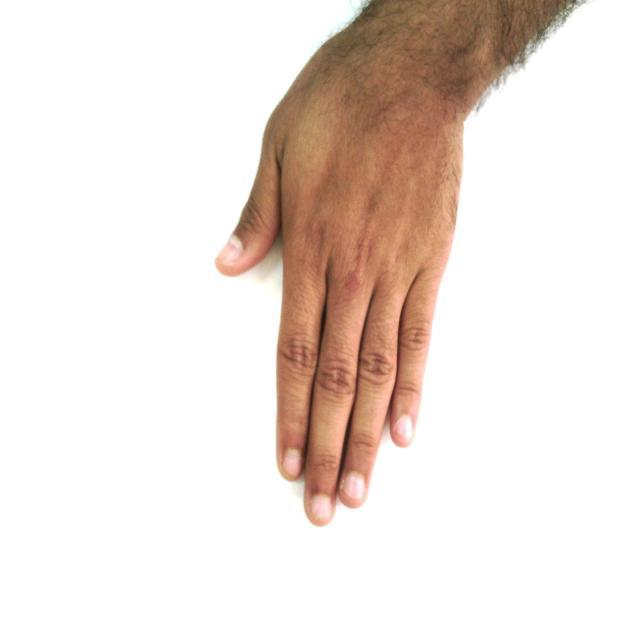Fingernail: (343, 474, 364, 503), (311, 495, 332, 523), (219, 238, 241, 263), (284, 450, 301, 478), (395, 416, 412, 438)
